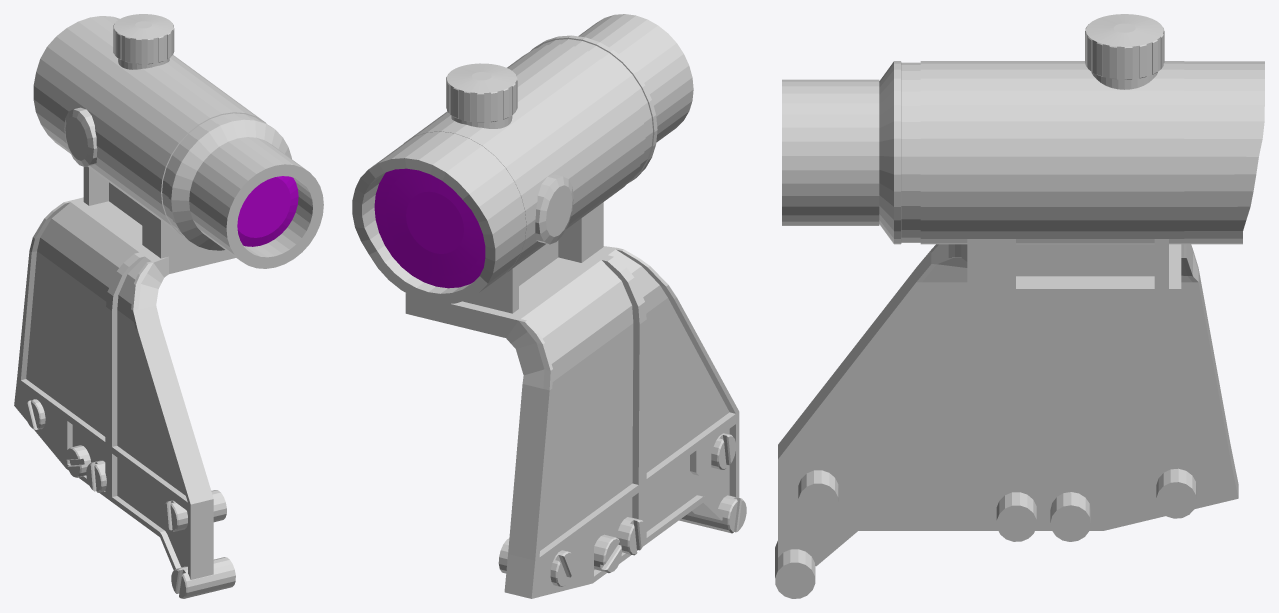
Rendered from 1x_scope_ru.fbx.
3 views of the same model, side by side, from view 1: azimuth 30°, elevation 25°; view 2: azimuth 150°, elevation 25°; view 3: azimuth 270°, elevation 25° (orthographic). The views are drawn at different scales.
Parts seen in each view (by area): view 1: Scope; view 2: Scope; view 3: Scope.
Boxes of the visible parts, box(x1,y1,x2,y2) form: Scope: box(14, 14, 323, 598); Scope: box(352, 14, 746, 598); Scope: box(775, 14, 1264, 598).
Bounding box in the file's own units: 3.28 × 7 × 9.43.
